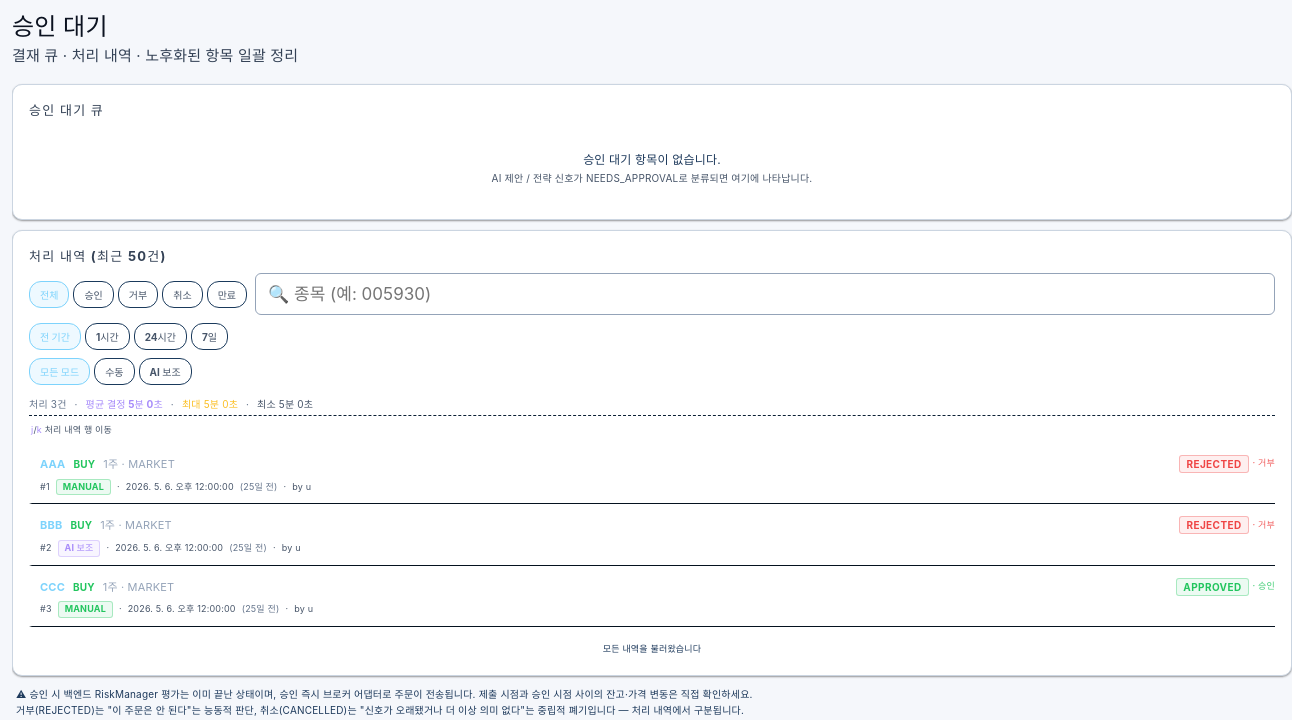
Test case: <Approvals> 처리 내역 mode filter (092) › composes with status filter (수동 × 거부)
The width and height of the screenshot is (1292, 720).
Click the radio button labelled "수동".
click(114, 372)  # box [94, 358, 135, 385]
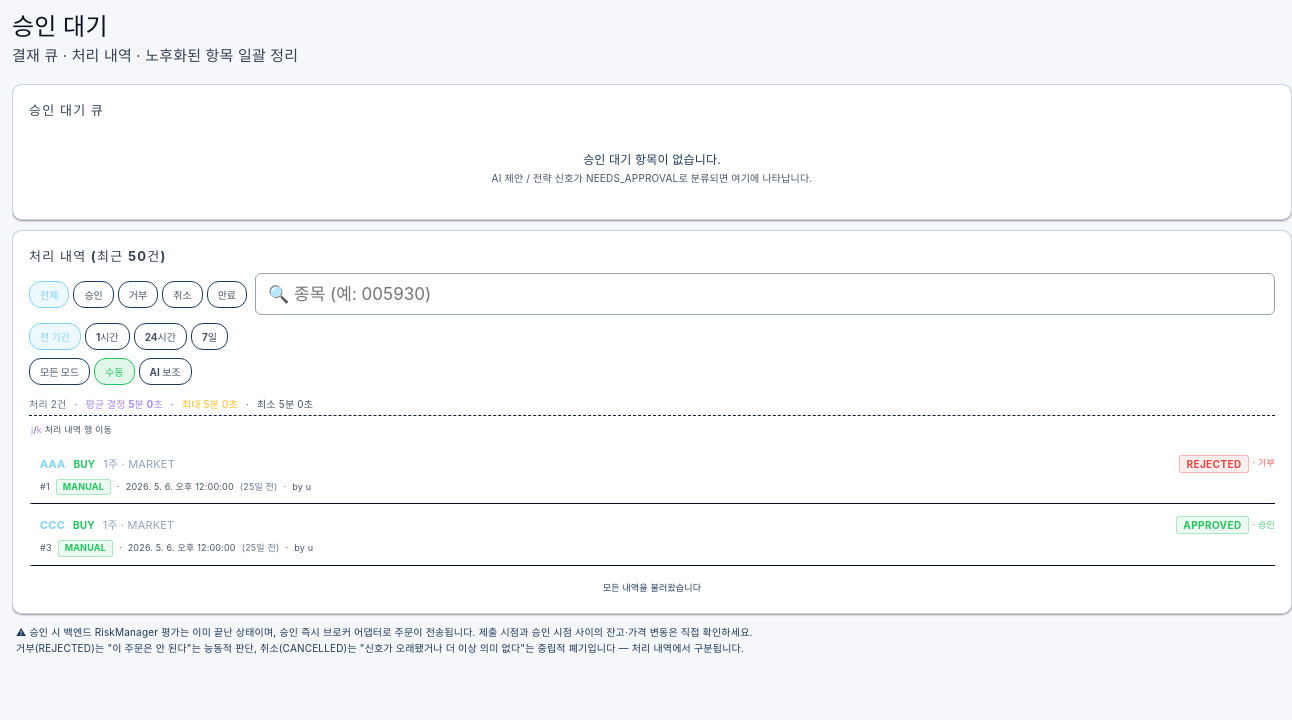
Click the radio button labelled "거부".
click(138, 294)  # box [118, 281, 158, 308]
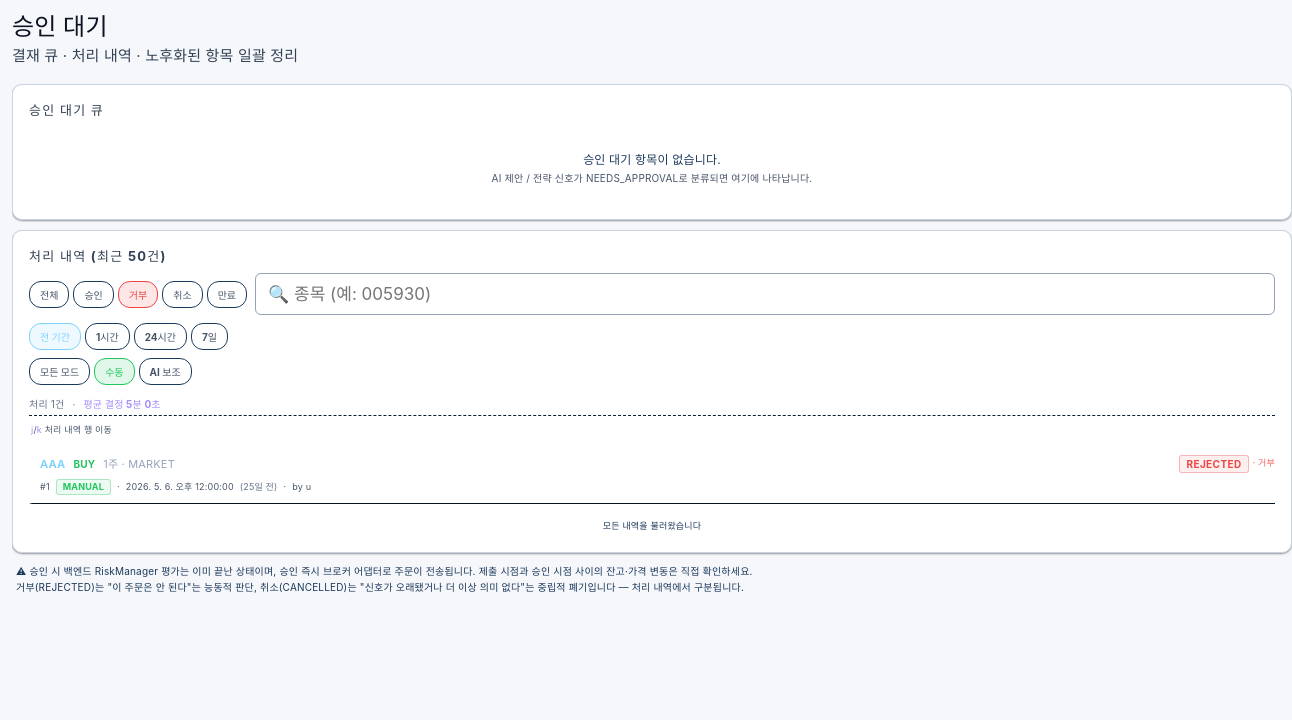
Expected: the text "AAA" is shown, [40, 457, 66, 471]
Expected: the text "CCC" is gone
